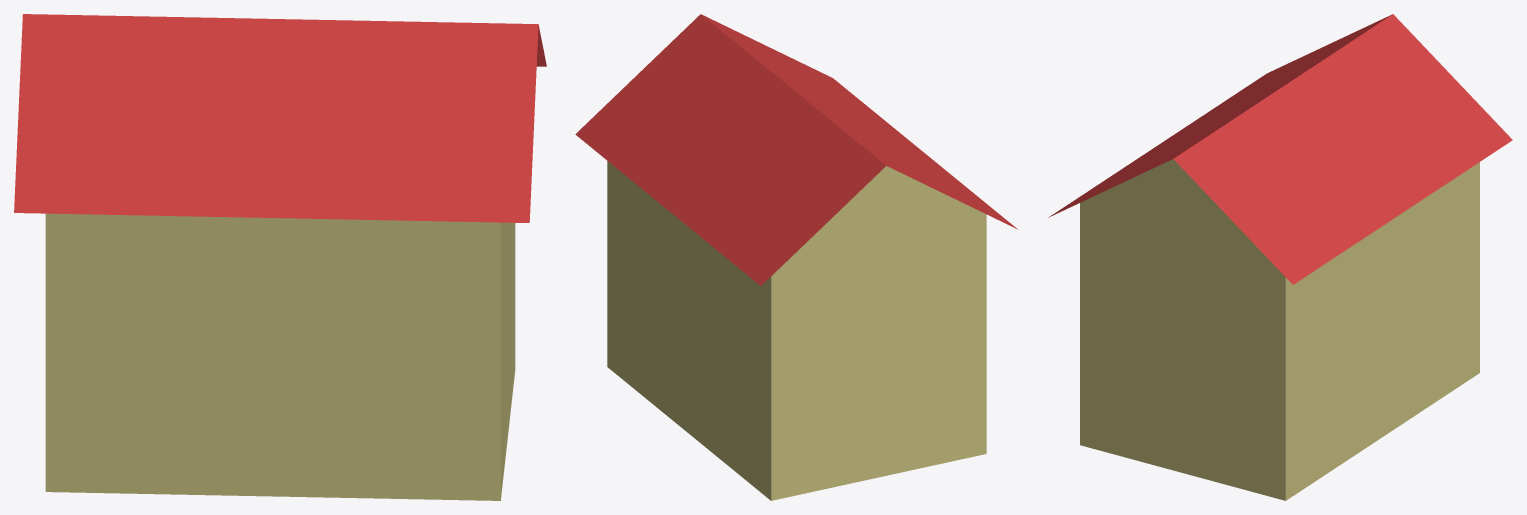
3 views of the same model, side by side, from view 1: azimuth 30°, elevation 25°; view 2: azimuth 150°, elevation 25°; view 3: azimuth 270°, elevation 25° (orthographic). The views are drawn at different scales.
Size of the model in its own units: 20.9 by 19.45 by 14.9.
